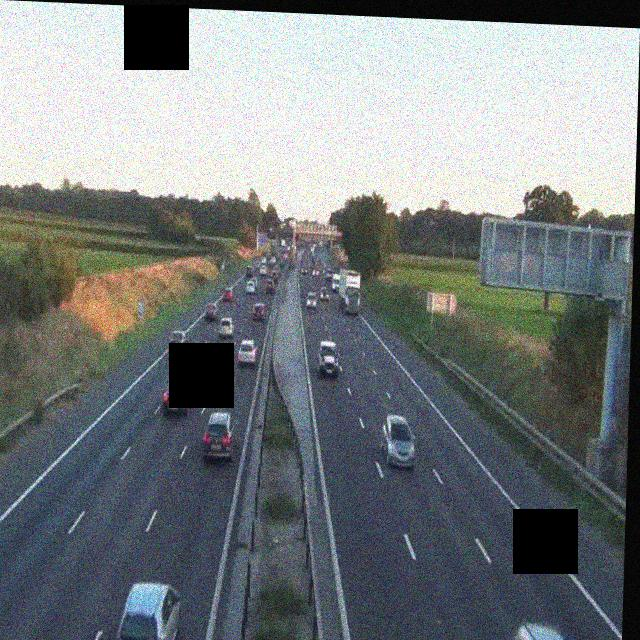car: (113, 581, 181, 640), (508, 620, 610, 640), (380, 413, 416, 468), (202, 411, 236, 461), (162, 375, 193, 416), (317, 340, 340, 377), (167, 329, 188, 356), (238, 340, 256, 365), (218, 316, 234, 339), (206, 301, 218, 322), (253, 302, 265, 321), (306, 291, 318, 310), (222, 287, 234, 302), (264, 280, 275, 295), (246, 280, 256, 295), (322, 286, 332, 299), (244, 265, 253, 277), (271, 267, 279, 280), (300, 265, 308, 278)
truck: (335, 270, 360, 312)
